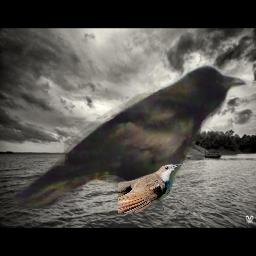Crow: (15, 63, 249, 209)
Cuckoo: (118, 164, 181, 213)
